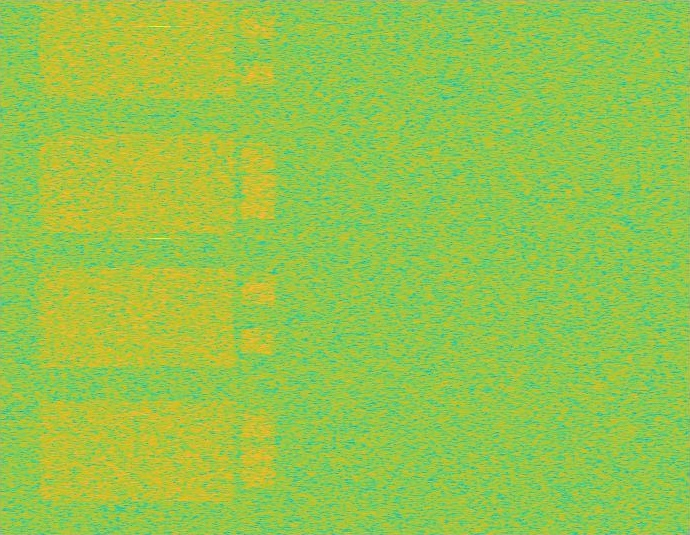5G: (34, 0, 241, 534)
LTE: (241, 0, 276, 534)
Radar: (153, 0, 166, 534)
